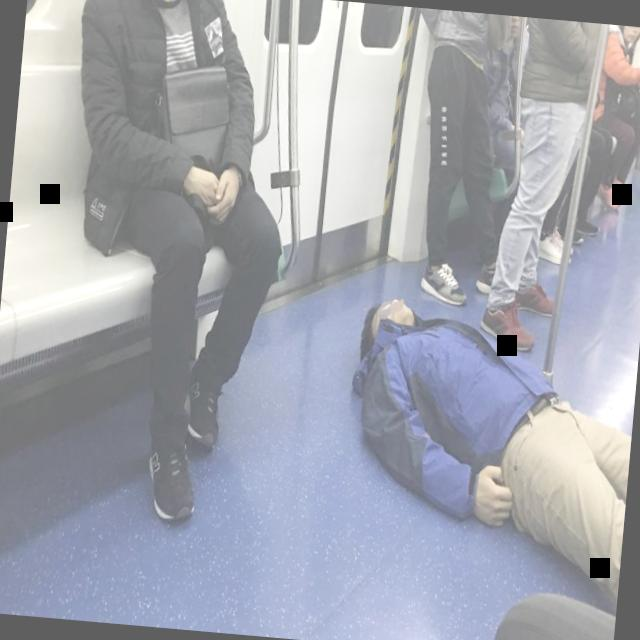Fall-Detected: (313, 264, 640, 640)
